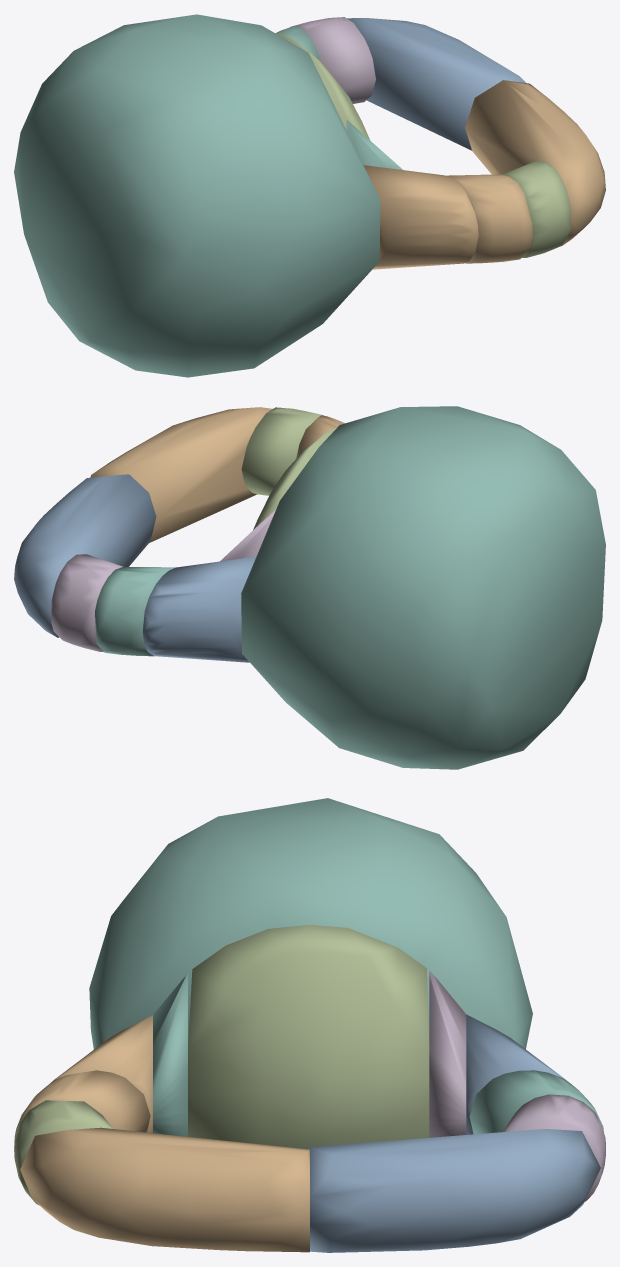
3 renders of one model, top to bottom at view 1: azimuth 30°, elevation 25°; view 2: azimuth 150°, elevation 25°; view 3: azimuth 270°, elevation 25°, orthographic. The views are drawn at different scales.
Bounding box in the file's own units: 1.76 × 1.1 × 1.63.
